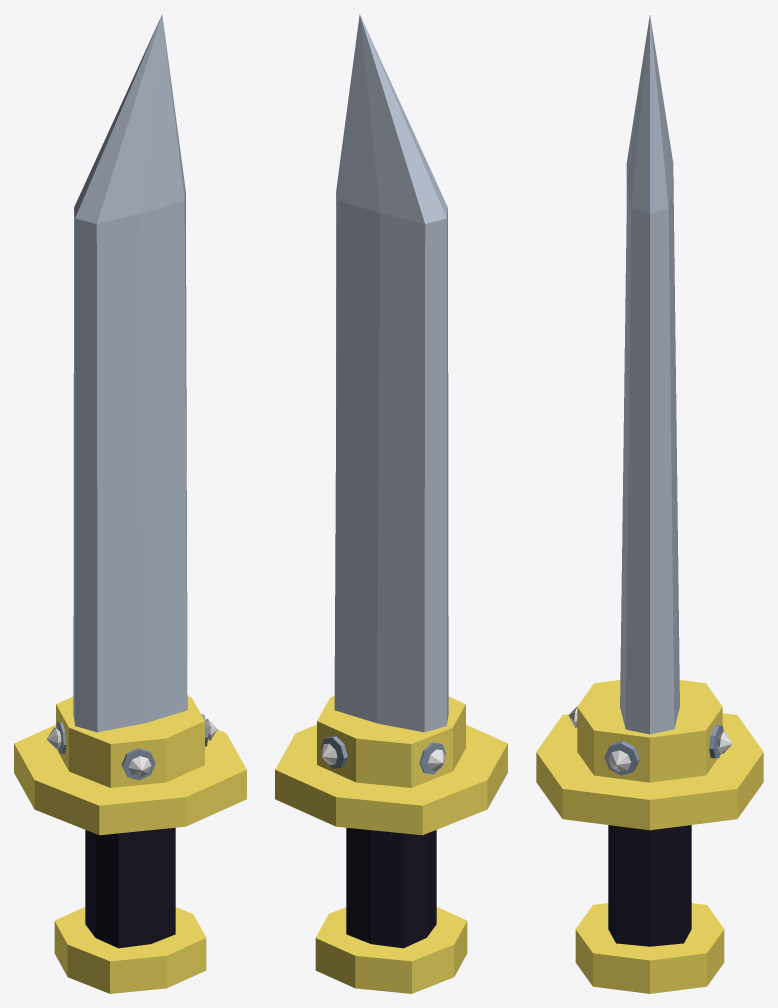
The model's file is Player_sword.fbx.
The picture shows the model from 3 angles, left to right: view 1: azimuth 30°, elevation 25°; view 2: azimuth 150°, elevation 25°; view 3: azimuth 270°, elevation 25°; orthographic projection. The views are drawn at different scales.
Visible parts, largest first — view 1: Sword; view 2: Sword; view 3: Sword.
Part boxes in pixels (box(x1,y1,x2,y2)): Sword: box(14, 14, 246, 993); Sword: box(275, 14, 507, 993); Sword: box(536, 15, 763, 993).
Size of the model in its own units: 25.64 by 120 by 25.64.
